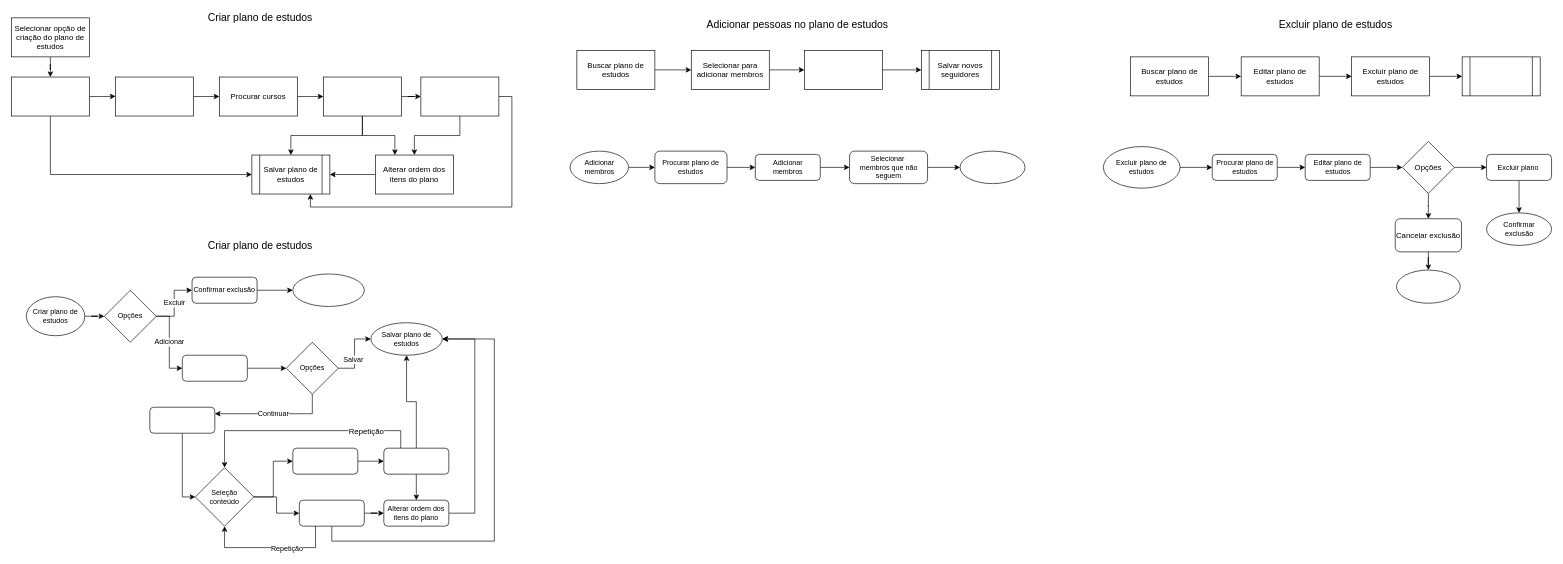
The diagram is 1563 pixels wide and 564 high, and some of its shapes have lost their labels. The box of each missing label's shape, as (x1, y1, x2, y2) in pixels:
Adicionar conteúdos: (149, 407, 215, 433)
Adicionar conteúdos externos: (420, 76, 499, 116)
Adicionar curso no plano: (383, 448, 449, 474)
Adicionar cursos no plano de estudos: (323, 76, 401, 116)
Adicionar dados gerais do plano: (11, 76, 89, 116)
Adicionar link de conteúdo externo: (299, 500, 364, 526)
Adicionar Título e Descrição: (182, 355, 247, 381)
Buscar cursos: (292, 448, 358, 474)
Confirmar exclusão do plano de estudos: (1462, 56, 1540, 96)
Excluído plano de estudos: (292, 273, 364, 306)
Habilitar para adicionar conteúdo no plano: (115, 76, 193, 116)
Salvar seguidores: (959, 150, 1025, 184)
Selecionar membros que não seguem o plano: (804, 50, 882, 89)
Voltar na visão geral: (1396, 269, 1460, 303)
